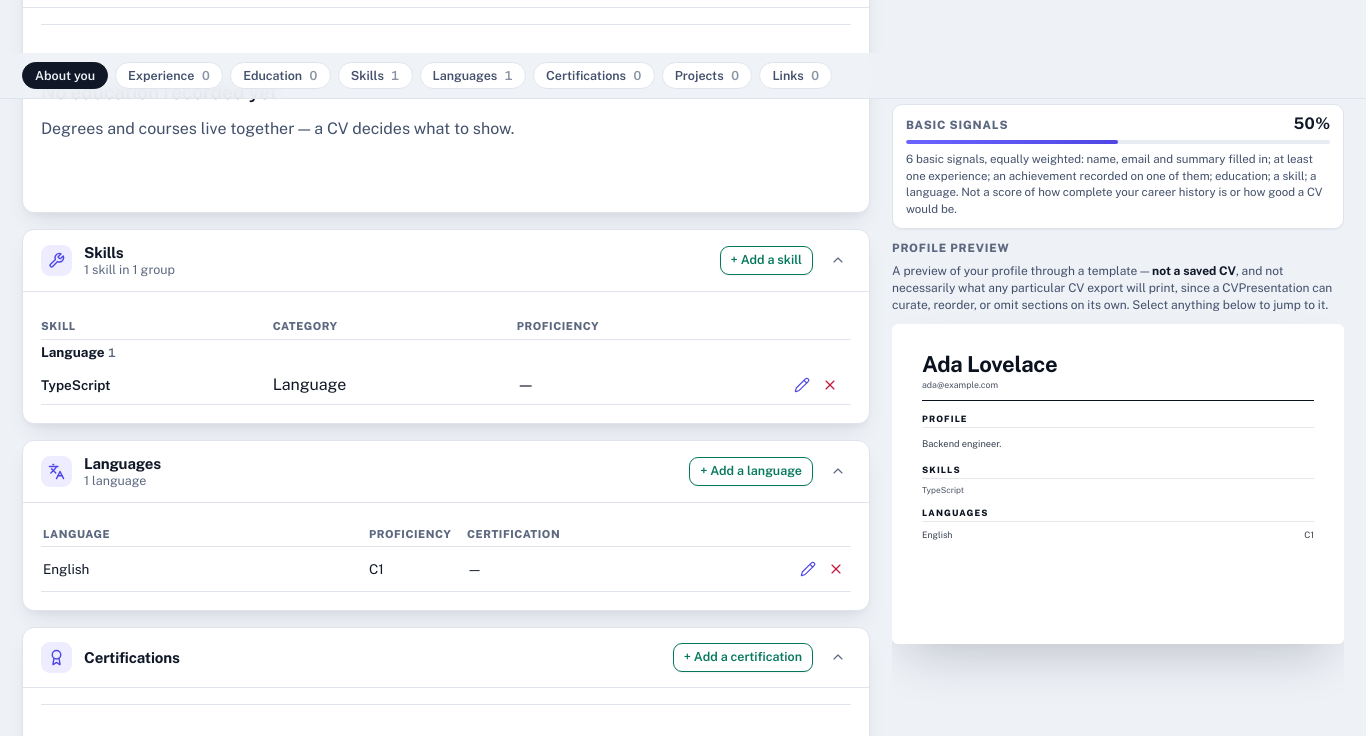
Test: ProfessionalProfilePage cross-section save race › a failed save/rollback in one section does not overwrite a newer successful change in another
(page scrolled)
Click the button named "Remove TypeScript" at (830, 385), box [817,372,843,398]
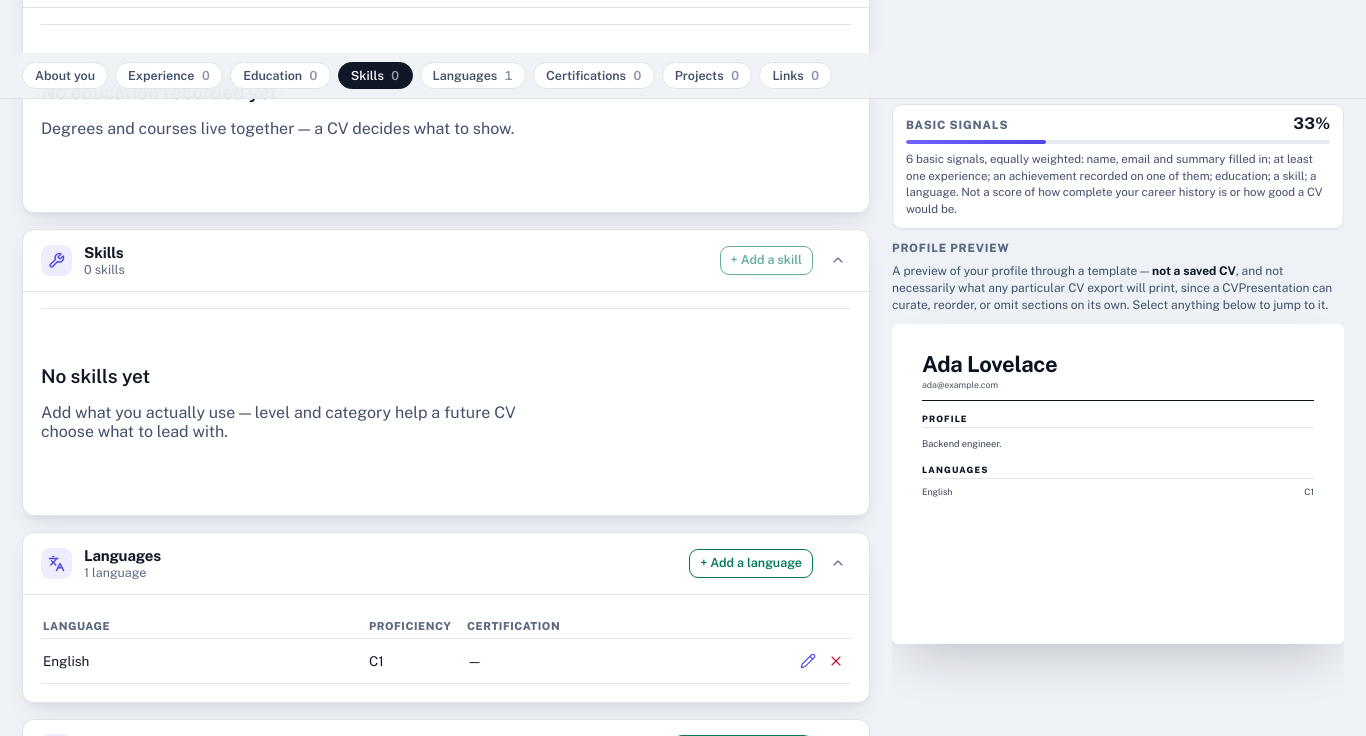
Now the text "TypeScript" is gone
Click the button named "Edit English" at (808, 661), box [795,648,821,674]
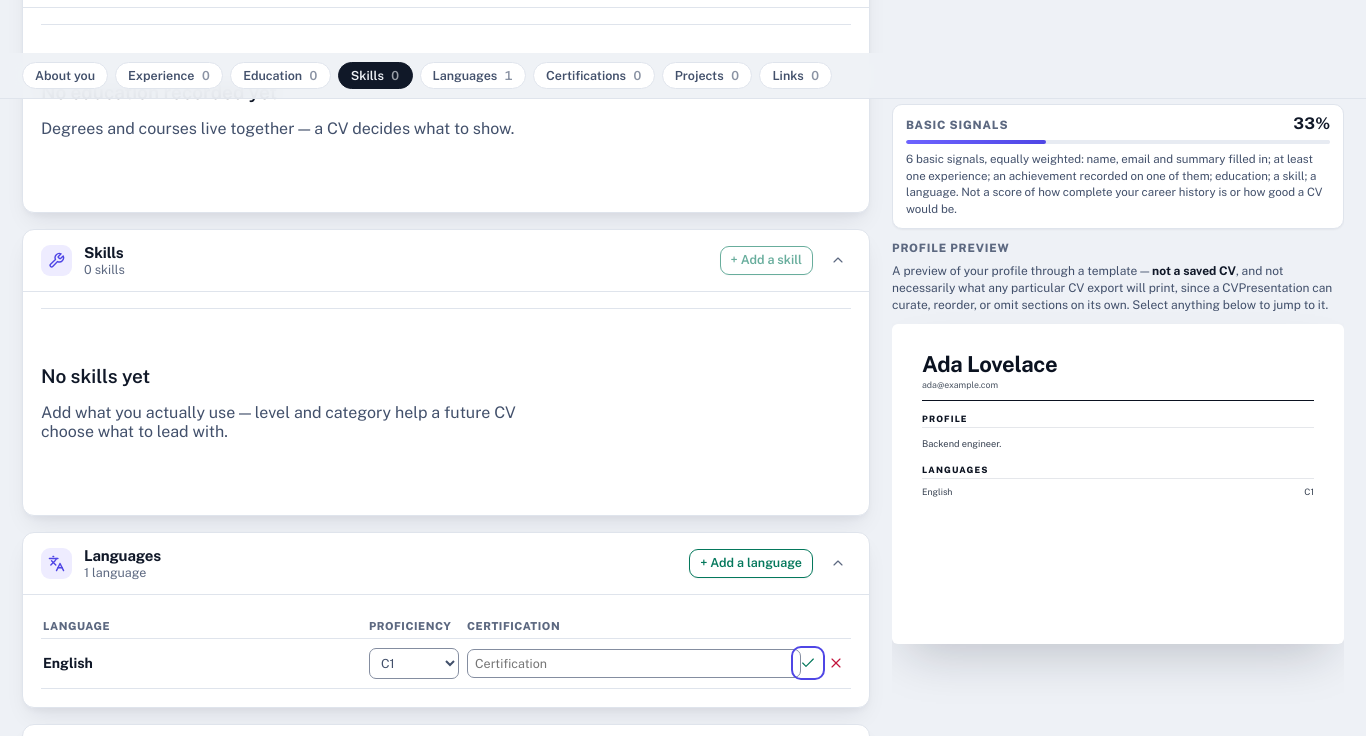
Type "C1 certified" into the field labelled "Certification" at (634, 663), box [467,649,801,678]
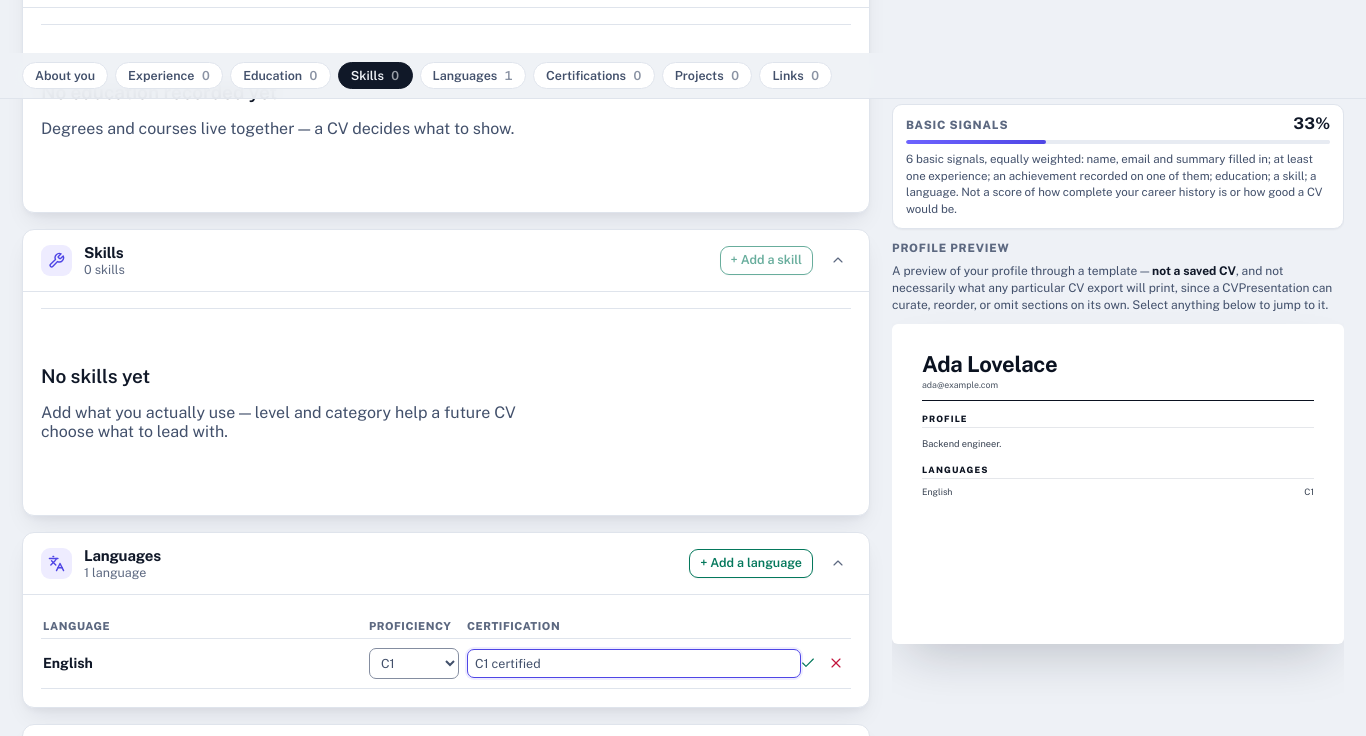
Click the button named "Done editing English" at (808, 663), box [795,650,821,676]
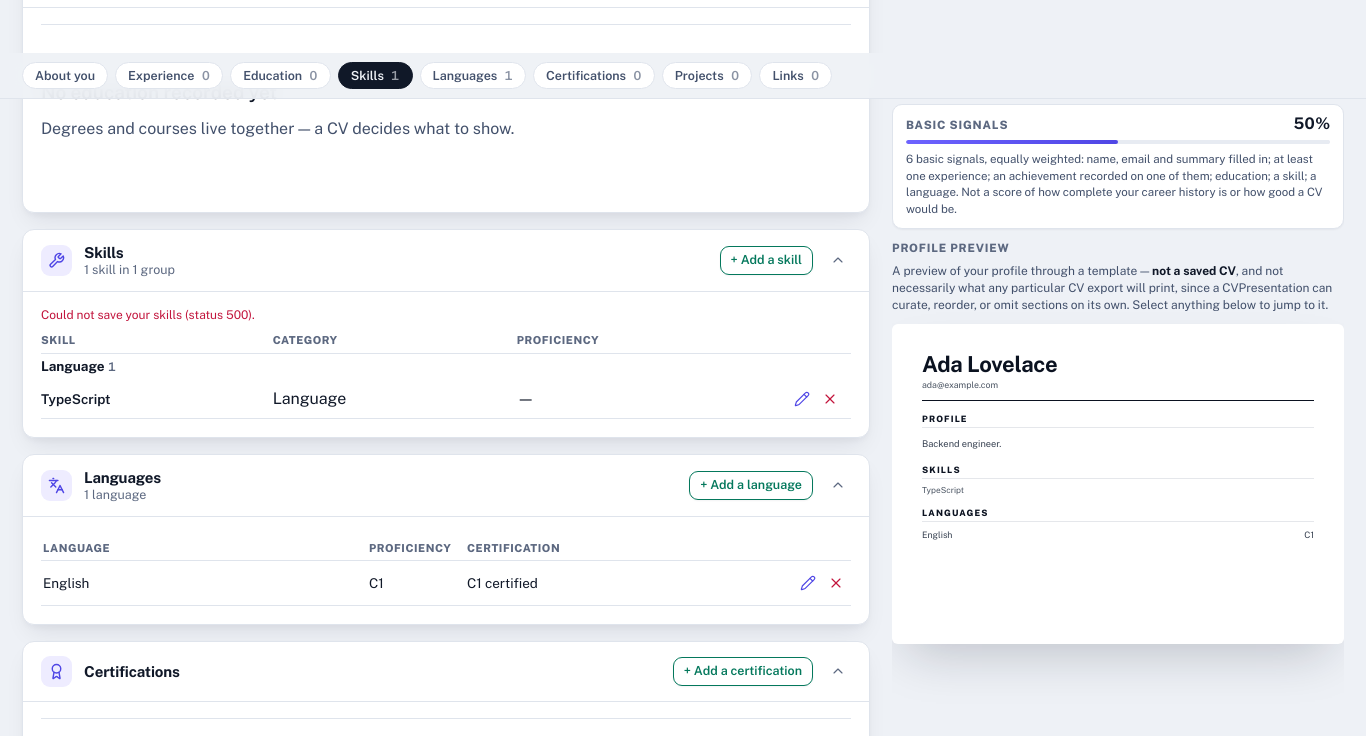
Now the text "TypeScript" is shown, box [41,380,273,418]
Now the text "C1 certified" is shown, box [467,575,538,591]
